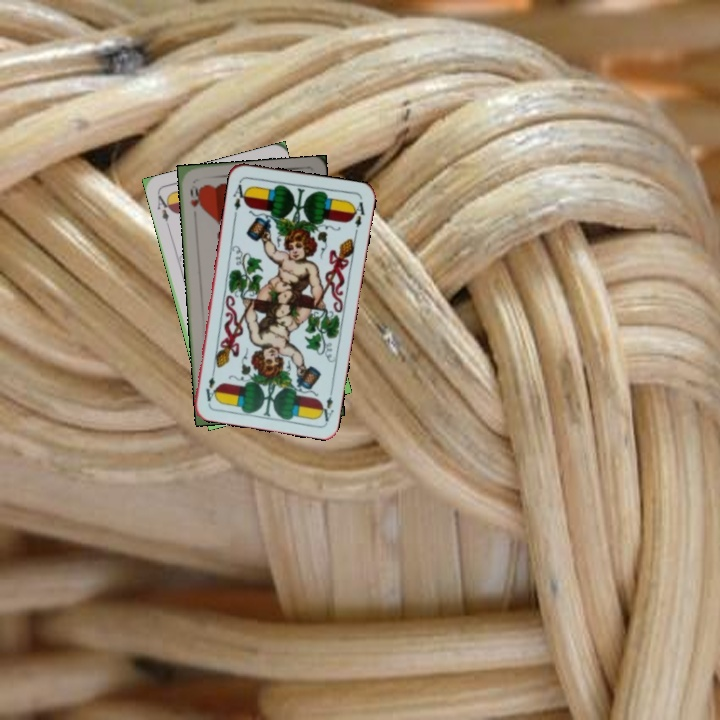EA: (229, 177, 250, 218), (315, 383, 336, 424), (153, 190, 174, 230)
HO: (186, 183, 203, 209)
